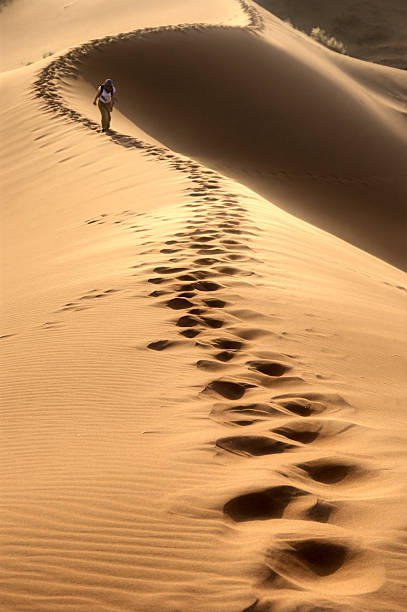human_footprint: (148, 214, 353, 530), (156, 226, 355, 532), (222, 484, 384, 610), (149, 224, 237, 336), (213, 393, 354, 459), (265, 523, 384, 600), (150, 197, 230, 308), (211, 397, 359, 445), (222, 484, 334, 522), (223, 485, 305, 522), (292, 455, 378, 488), (271, 417, 357, 443), (272, 391, 349, 416), (216, 434, 294, 456), (210, 401, 281, 425), (54, 288, 121, 313), (204, 378, 254, 399), (247, 360, 291, 377), (281, 398, 318, 417), (166, 296, 194, 309), (147, 339, 174, 350), (213, 350, 233, 362), (203, 298, 227, 308)
